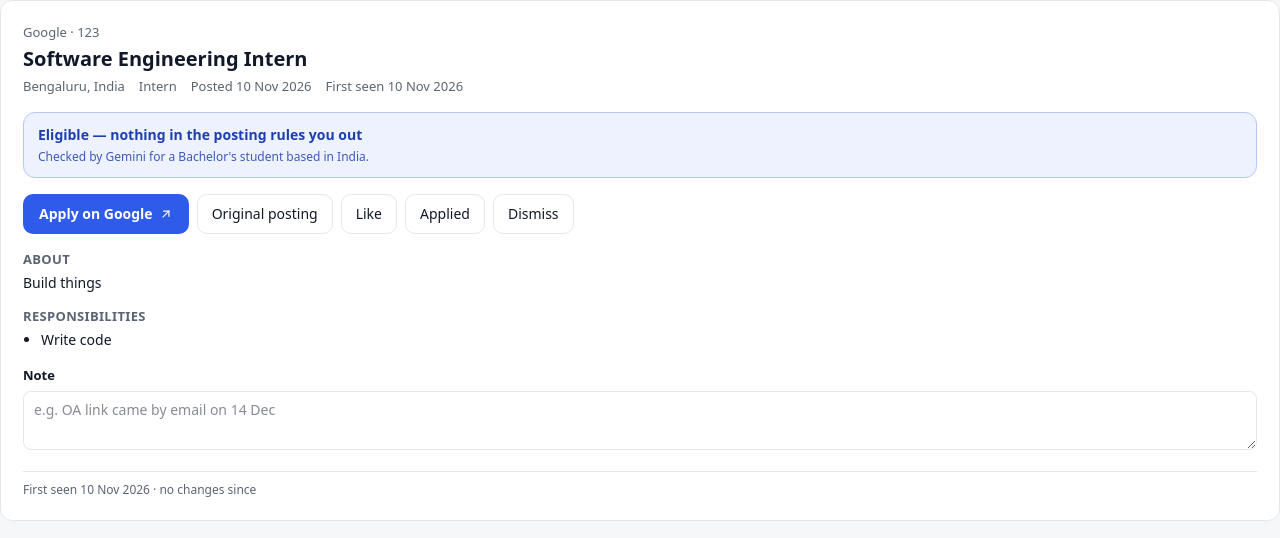
Test: Like sends liked, and clicking it again removes the tag
This screenshot has width=1280, height=538.
Later steps or results of the test are not shown.
Click the button "Like".
click(369, 214)  # box [341,194,397,234]
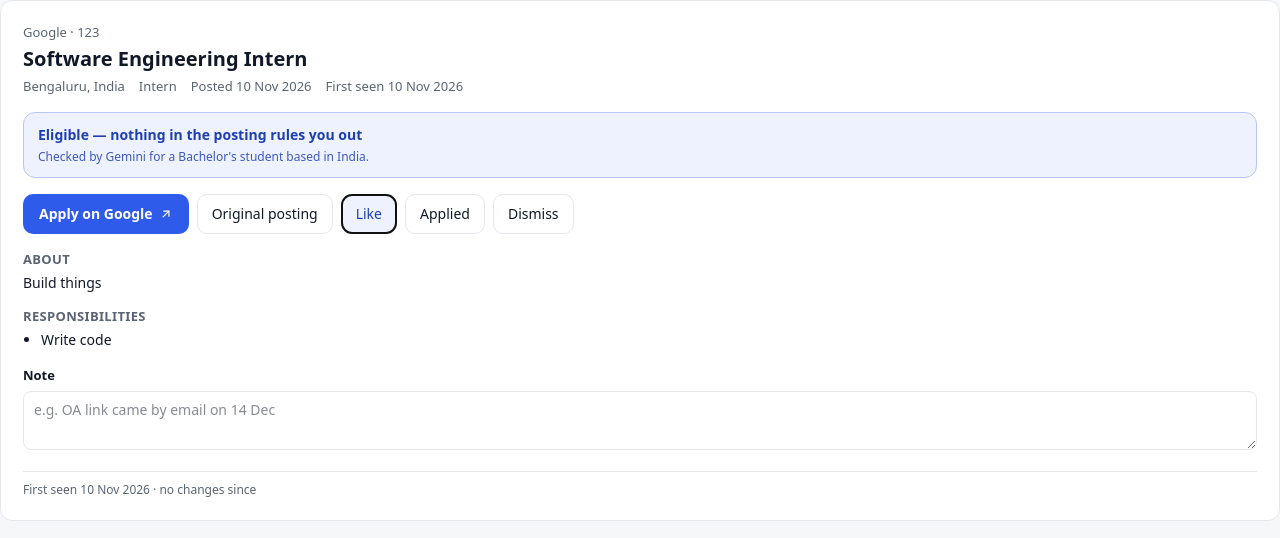
Expected: the button "Like" is pressed, [341,194,397,234]
